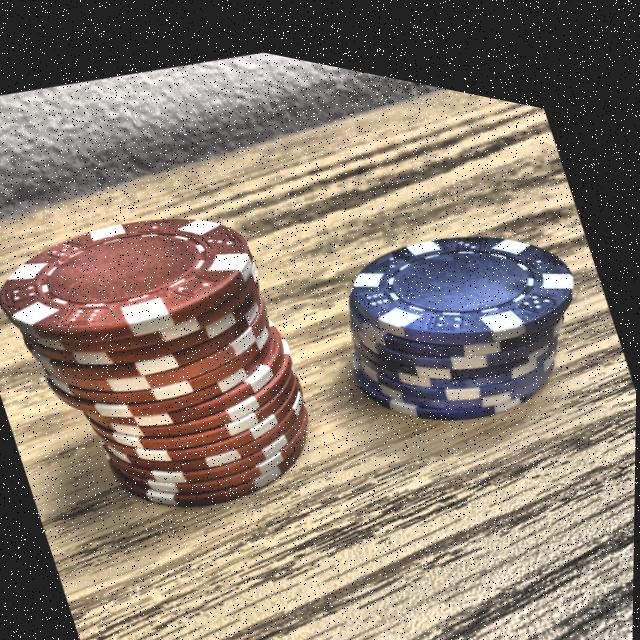Chip: (0, 133, 365, 574), (299, 130, 630, 482)
